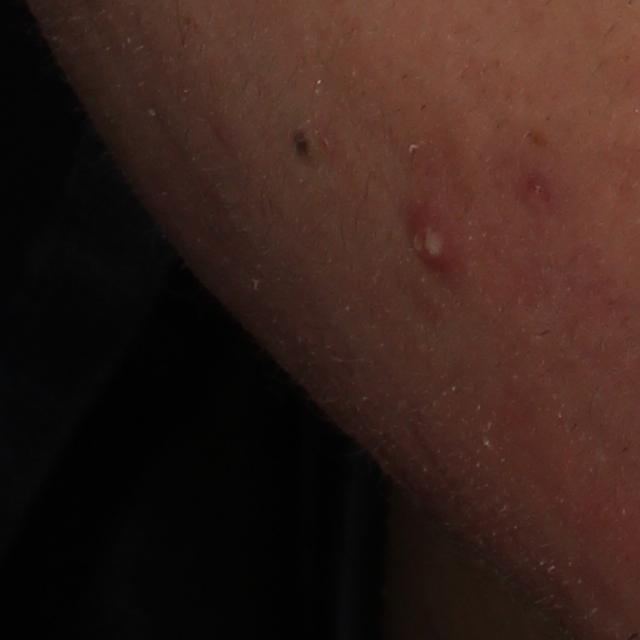nevus: (287, 122, 315, 166)
pustule: (399, 202, 472, 276)
